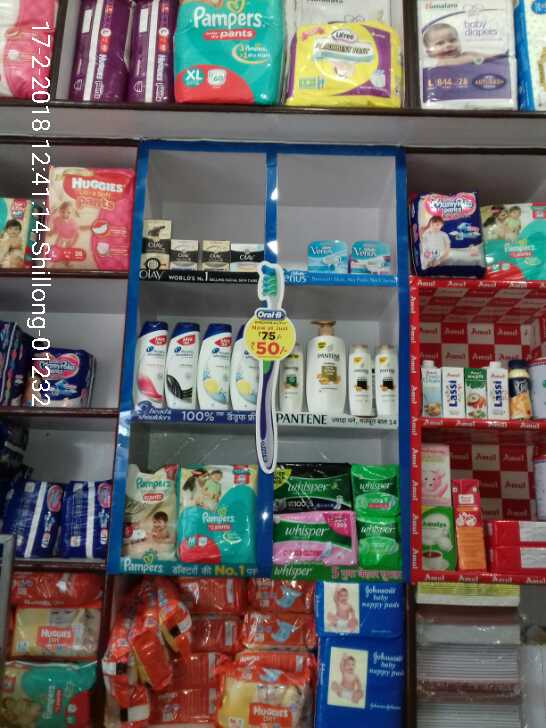venus: (306, 239, 349, 271), (349, 240, 389, 271)
